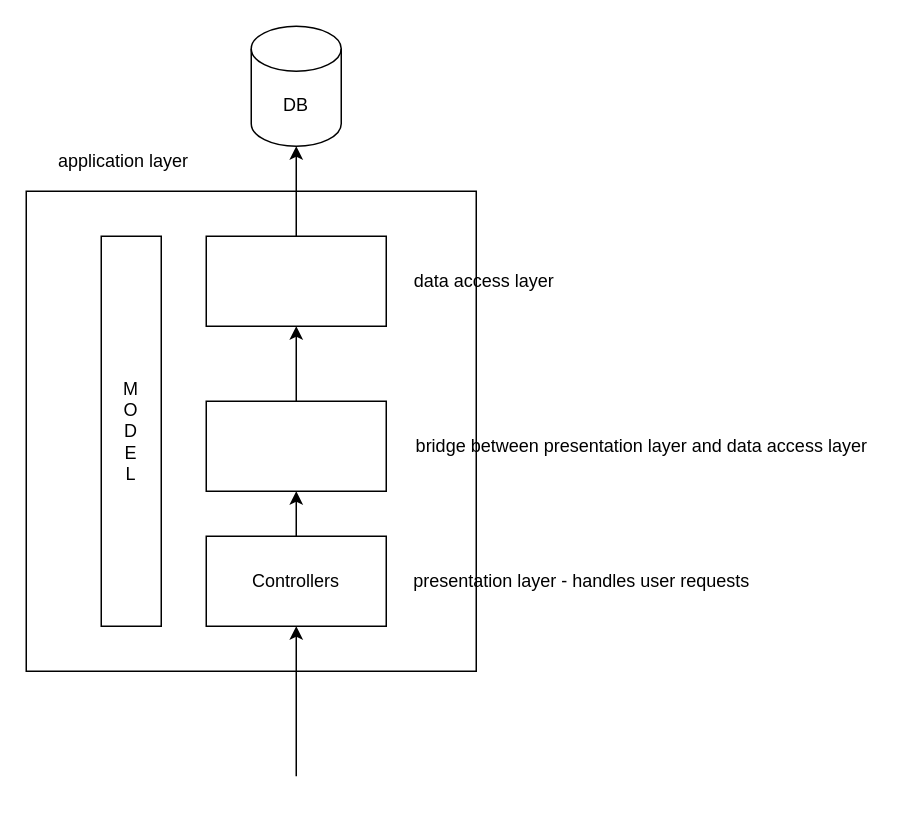
This 908x815 diagram has some shape labels left out. The shapes that lost their labels are listed below. From the top down, each one's box as (x1, y1, x2, y2) in pixels, then its label:
(205, 235, 386, 326): repository
(205, 400, 386, 491): service
